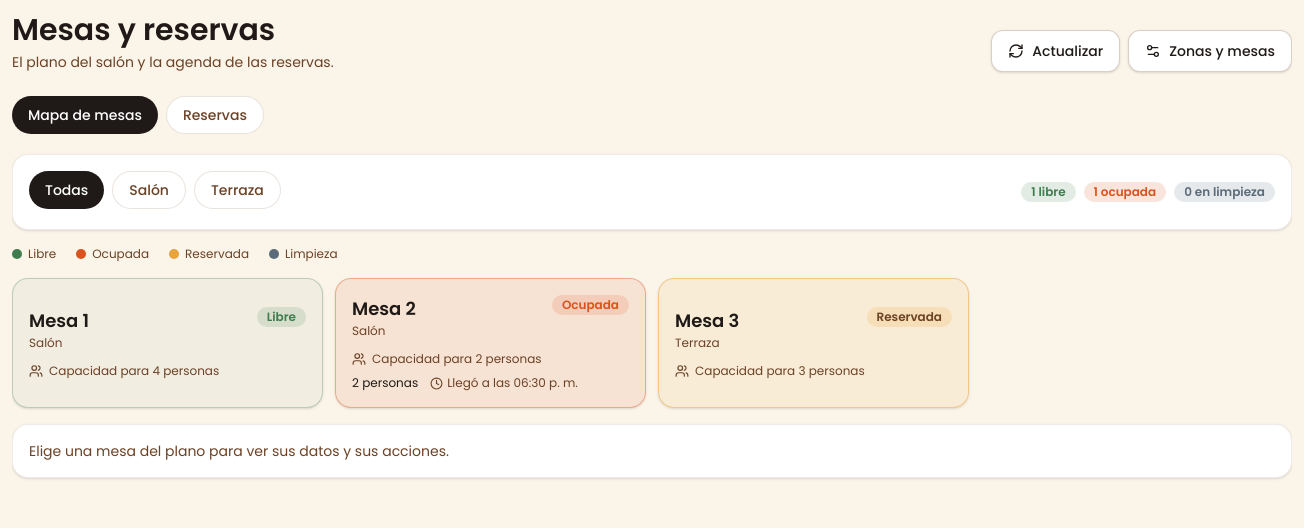
it: Mesas › una mesa libre no ofrece 'Tomar pedido'
The width and height of the screenshot is (1304, 528).
Click the button with aria-label "Mesa 1, Salón, Libre, capacidad 4". click: x=56, y=320
box: [12, 278, 323, 408]
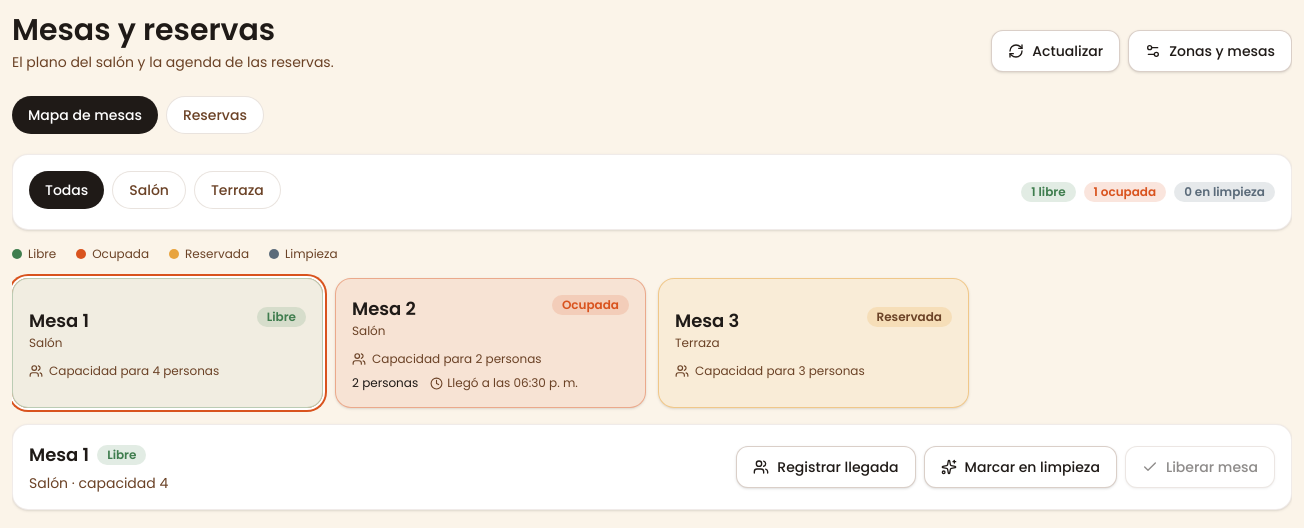
Expected: the button "Registrar llegada" is shown, [736, 446, 916, 488]
